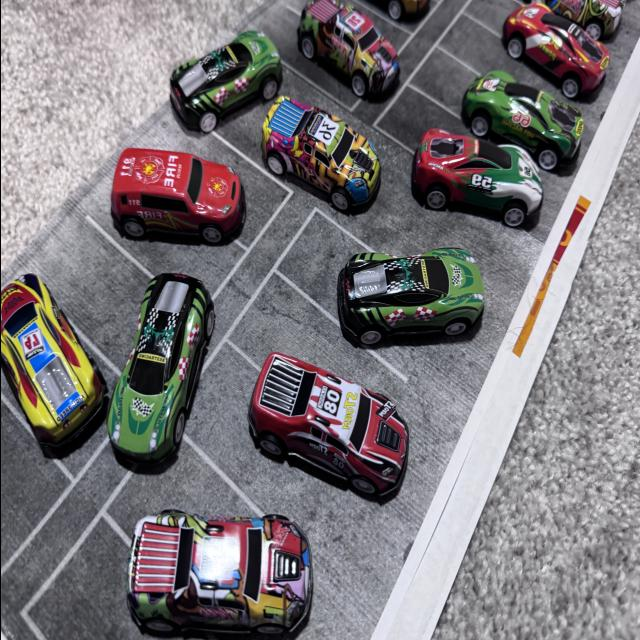car: (180, 290, 408, 512), (26, 514, 346, 636), (2, 205, 132, 429), (91, 142, 282, 290), (314, 212, 494, 344), (501, 0, 631, 125), (401, 112, 536, 230), (467, 58, 589, 186), (254, 90, 366, 216), (312, 0, 394, 141), (180, 38, 271, 160), (152, 296, 218, 452), (544, 0, 632, 49), (536, 0, 640, 26), (340, 1, 440, 28)
